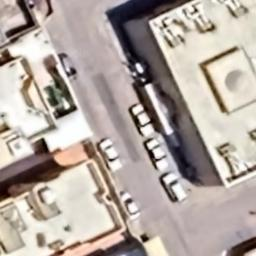SUV: (159, 170, 190, 205)
sedan: (95, 133, 127, 175), (127, 99, 155, 139), (142, 137, 172, 171), (116, 186, 142, 222)
van: (55, 50, 79, 82)
